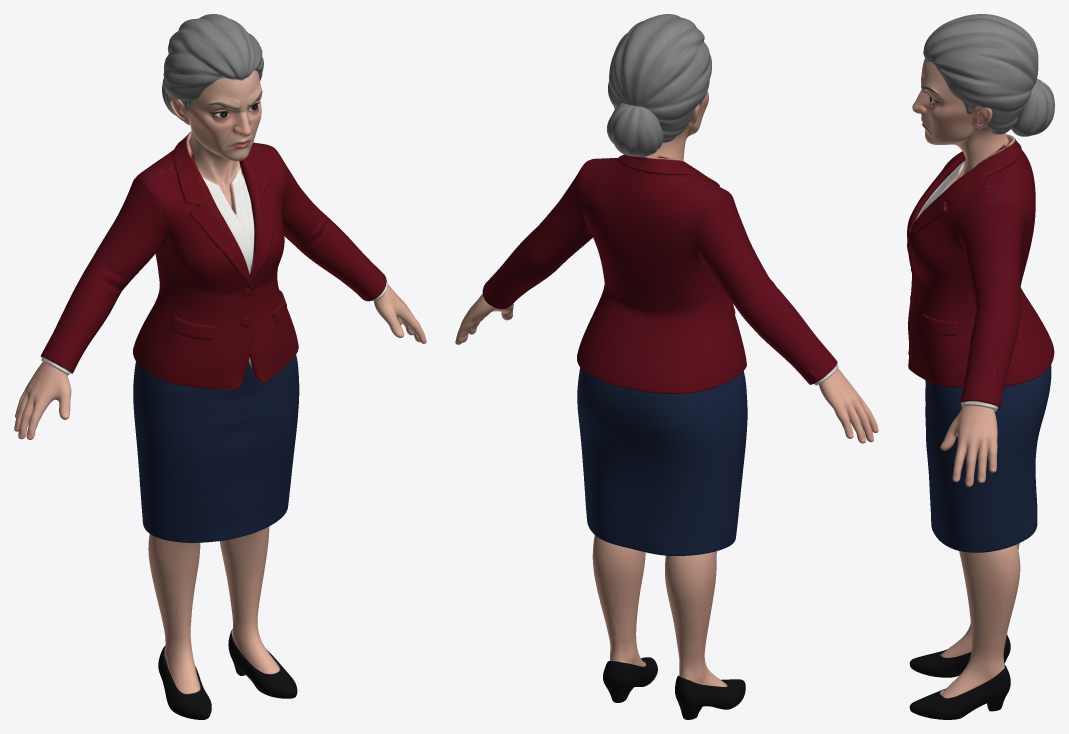
The model's file is profesora.glb.
3 renders of one model, left to right at view 1: azimuth 30°, elevation 25°; view 2: azimuth 150°, elevation 25°; view 3: azimuth 270°, elevation 25°, orthographic. The views are drawn at different scales.
Size of the model in its own units: 1.2 by 1.9 by 0.3782.
1 material, 1 textured.
